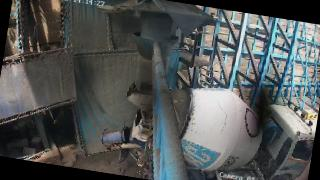cement_mixer_truck: (113, 81, 314, 180)
swing_chute: (134, 32, 178, 98)
